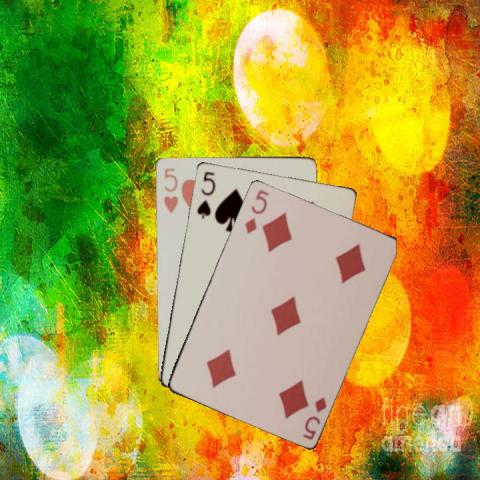5d: (241, 186, 271, 235), (300, 393, 328, 442)
5h: (161, 164, 179, 214)
5s: (193, 168, 217, 220)
